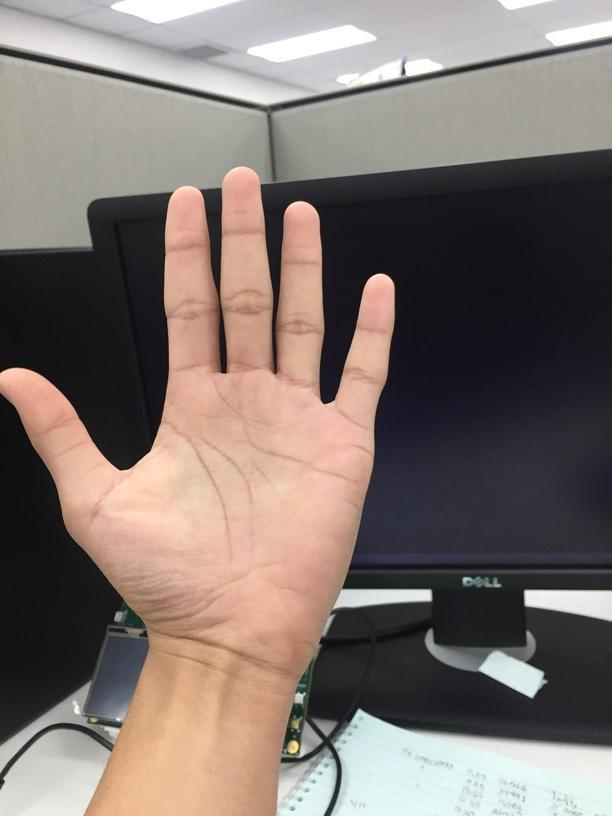hand: (0, 169, 401, 675)
